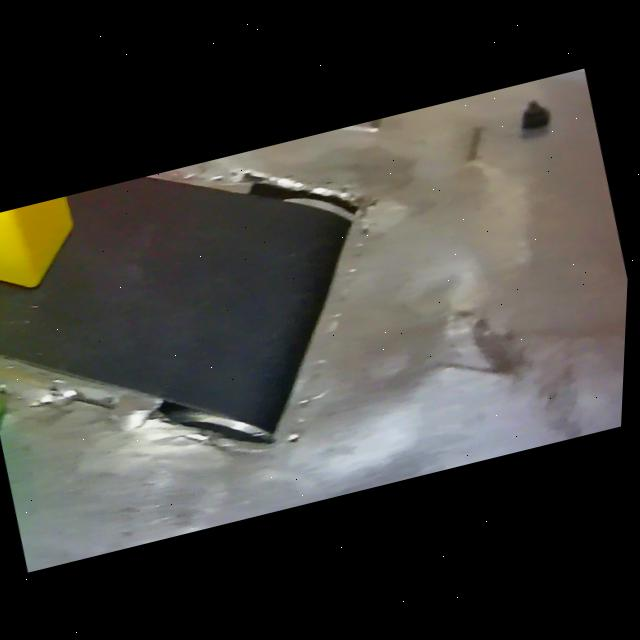greenBox: (0, 253, 33, 483)
yellowBox: (0, 194, 96, 306)
